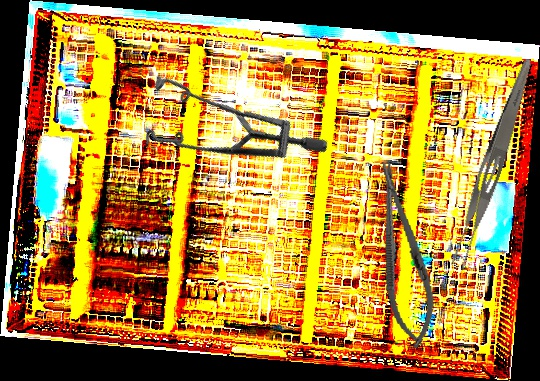Dressing Forceps: (445, 54, 538, 272)
Needle Holder: (363, 156, 444, 352)
Speculum: (116, 22, 332, 239)
